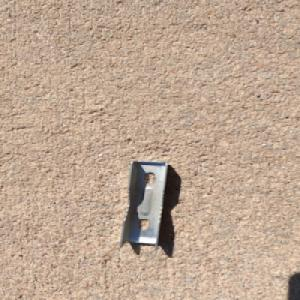ClampPart: (117, 158, 171, 251)
